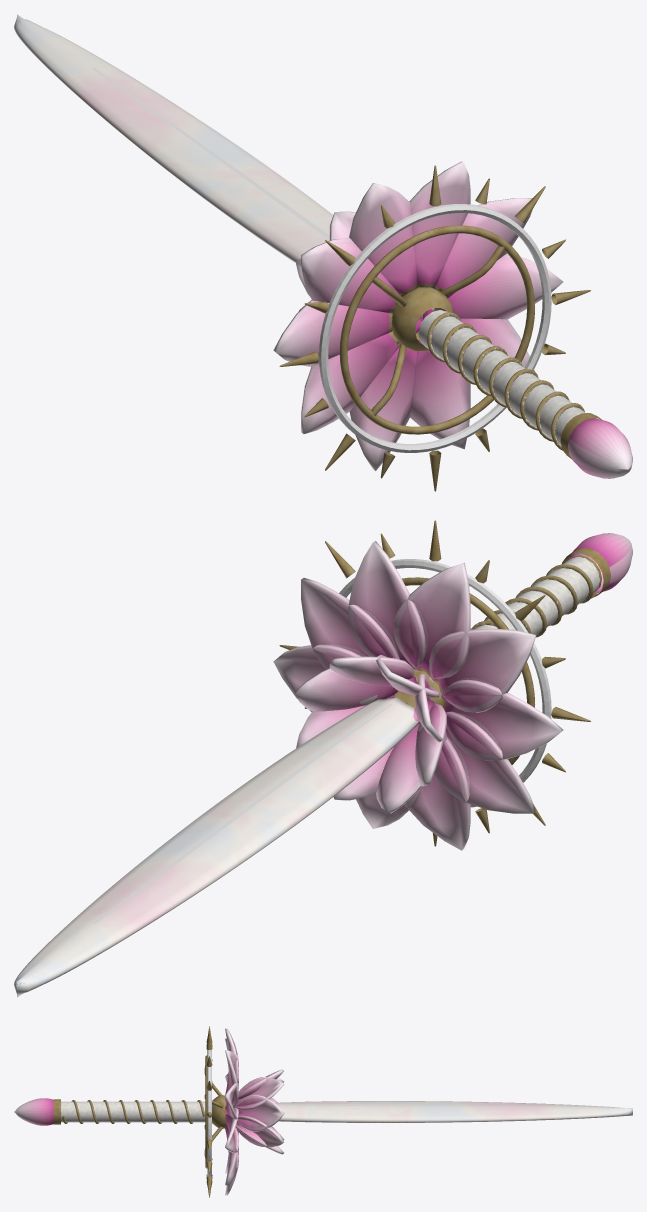
Rendered from Sword6.fbx.
3 views of the same model, one above another, from view 1: azimuth 30°, elevation 25°; view 2: azimuth 150°, elevation 25°; view 3: azimuth 270°, elevation 25° (orthographic). The views are drawn at different scales.
Parts seen in each view (by area): view 1: Sword6_Body, Sword6_Glow_ffaa1e; view 2: Sword6_Body, Sword6_Glow_ffaa1e; view 3: Sword6_Body, Sword6_Glow_ffaa1e.
Boxes of the visible parts, <box> form: Sword6_Body: <box>14,14,632,491</box>; Sword6_Glow_ffaa1e: <box>92,67,551,452</box>; Sword6_Body: <box>14,520,632,997</box>; Sword6_Glow_ffaa1e: <box>92,559,551,924</box>; Sword6_Body: <box>14,1026,632,1197</box>; Sword6_Glow_ffaa1e: <box>207,1049,555,1176</box>.
Size of the model in its own units: 1.73 by 1.73 by 5.88.
2 materials, 1 textured.
